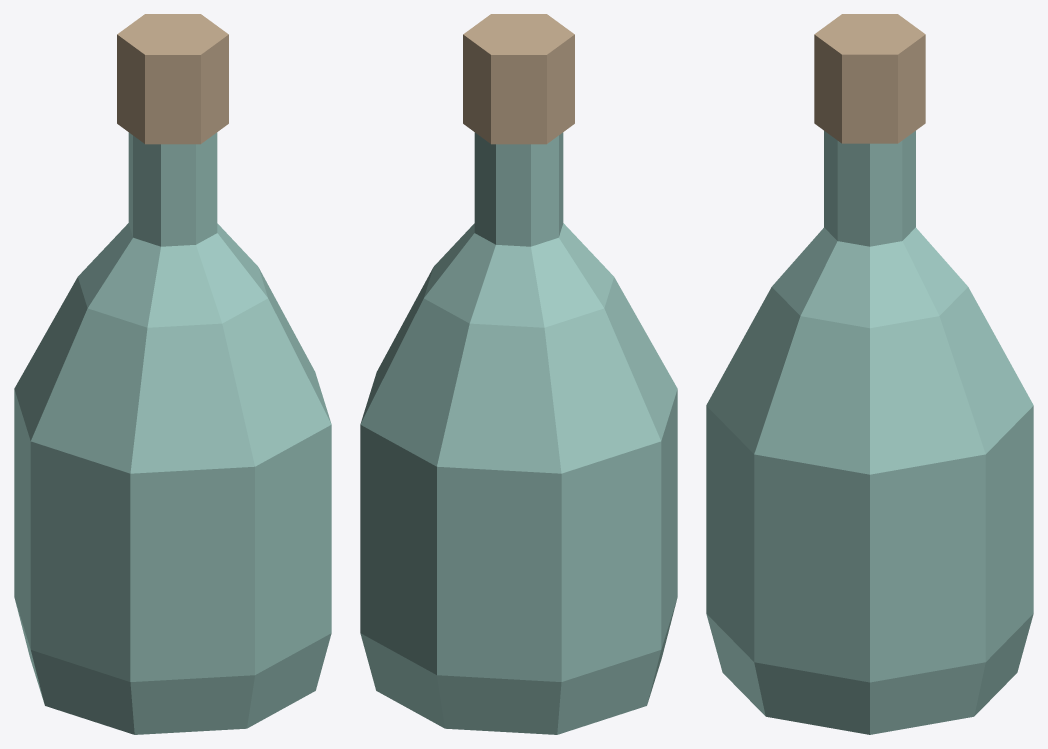
File: prop-potion-bottle.fbx
3 views of the same model, side by side, from view 1: azimuth 30°, elevation 25°; view 2: azimuth 150°, elevation 25°; view 3: azimuth 270°, elevation 25° (orthographic).
Parts seen in each view (by area): view 1: prop-potion-bottle; view 2: prop-potion-bottle; view 3: prop-potion-bottle.
Boxes of the visible parts, x1,y1,x2,y2 form: prop-potion-bottle: (14, 14, 331, 734); prop-potion-bottle: (360, 14, 677, 734); prop-potion-bottle: (706, 14, 1033, 734).
Size of the model in its own units: 10 by 21.5 by 10.
